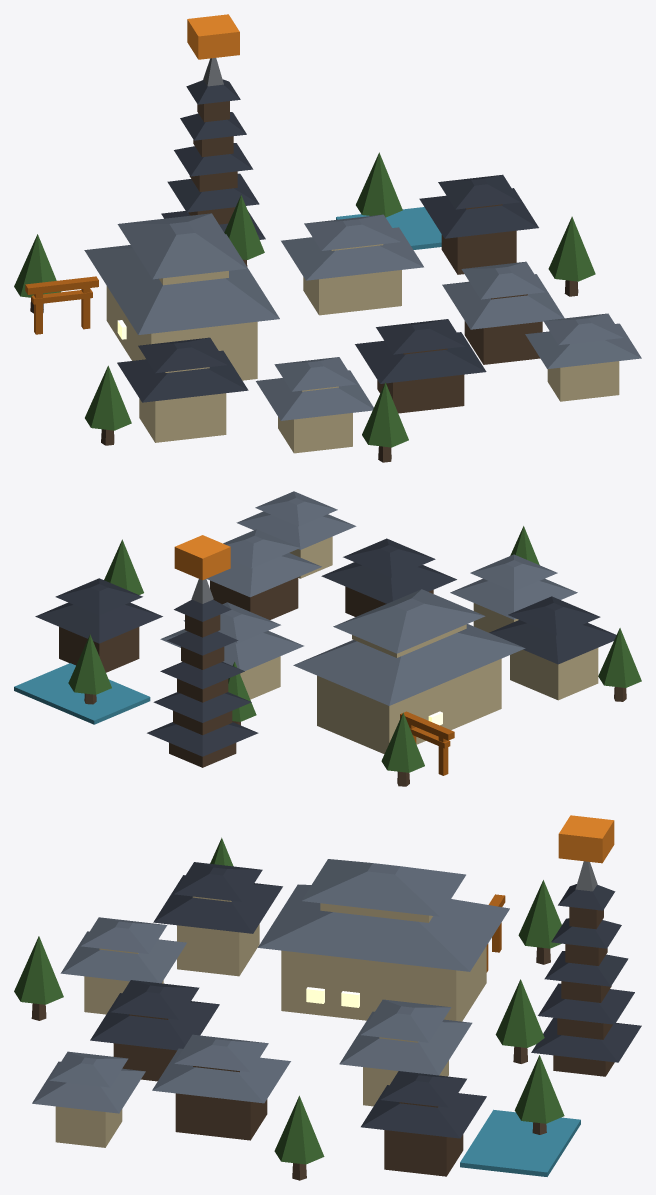
The model's file is overworld-settlement-east-asian-rural.glb.
The picture shows the model from 3 angles, top to bottom: view 1: azimuth 30°, elevation 25°; view 2: azimuth 150°, elevation 25°; view 3: azimuth 270°, elevation 25°; orthographic projection. The views are drawn at different scales.
Visible parts, largest first — view 1: settlement; view 2: settlement; view 3: settlement.
Part boxes in pixels (left/top/right/bottom): settlement: left=14, top=14, right=641, bottom=462; settlement: left=14, top=491, right=641, bottom=786; settlement: left=14, top=815, right=641, bottom=1180.
Bounding box in the file's own units: 0.5102 × 0.201 × 0.4853.
